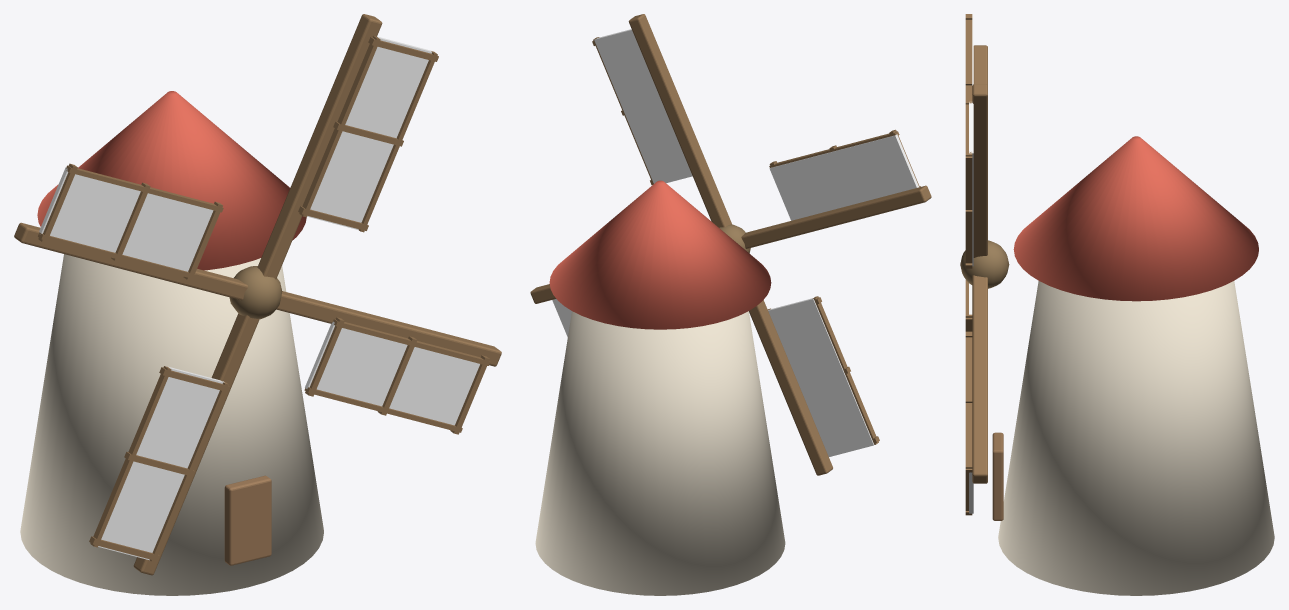
Rendered from windmill.glb.
3 views of the same model, side by side, from view 1: azimuth 30°, elevation 25°; view 2: azimuth 150°, elevation 25°; view 3: azimuth 270°, elevation 25° (orthographic). The views are drawn at different scales.
Parts seen in each view (by area): view 1: Cone, Cone.001, Cube.009, Cube.023, Cube.016, Cube.002, Cube.001, Cube, Cube.008, Cube.022, Cube.015, Sphere (+9 smaller); view 2: Cone, Cone.001, Cube.023, Cube.016, Cube.002, Cube.001, Cube.015, Cube.022, Cube.018; view 3: Cone, Cone.001, Cube.008, Cube.001, Sphere, Cube, Cube.010, Cube.004, Cube.025, Cube.022, Cube.002.
Boxes of the visible parts, x1=… form: Cone: x1=20, y1=254, x2=323, y2=595; Cone.001: x1=37, y1=91, x2=306, y2=270; Cube.009: x1=305, y1=321, x2=479, y2=425; Cube.023: x1=39, y1=167, x2=213, y2=271; Cube.016: x1=98, y1=366, x2=224, y2=560; Cube.002: x1=307, y1=36, x2=431, y2=229; Cube.001: x1=257, y1=14, x2=382, y2=279; Cube: x1=224, y1=475, x2=271, y2=565; Cube.008: x1=276, y1=291, x2=501, y2=366; Cube.022: x1=14, y1=222, x2=247, y2=300; Cube.015: x1=133, y1=313, x2=259, y2=575; Sphere: x1=229, y1=266, x2=282, y2=319; Cone: x1=535, y1=311, x2=785, y2=595; Cone.001: x1=549, y1=180, x2=771, y2=329; Cube.023: x1=769, y1=134, x2=918, y2=220; Cube.016: x1=768, y1=298, x2=874, y2=456; Cube.002: x1=594, y1=29, x2=692, y2=183; Cube.001: x1=628, y1=14, x2=732, y2=227; Cube.015: x1=749, y1=300, x2=832, y2=475; Cube.022: x1=741, y1=185, x2=931, y2=248; Cube.018: x1=812, y1=296, x2=878, y2=444; Cone: x1=998, y1=281, x2=1274, y2=595; Cone.001: x1=1013, y1=136, x2=1258, y2=301; Cube.008: x1=972, y1=275, x2=987, y2=483; Cube.001: x1=972, y1=84, x2=987, y2=257; Sphere: x1=960, y1=240, x2=1009, y2=288; Cube: x1=992, y1=432, x2=1003, y2=520; Cube.010: x1=965, y1=337, x2=972, y2=472; Cube.004: x1=965, y1=151, x2=972, y2=263; Cube.025: x1=965, y1=19, x2=972, y2=99; Cube.022: x1=973, y1=45, x2=987, y2=84; Cube.002: x1=969, y1=102, x2=973, y2=266.
Size of the model in its own units: 1.3 by 1.43 by 0.8109.
